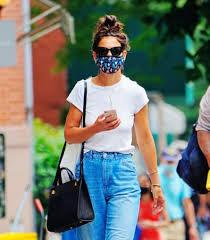mask: (97, 53, 129, 78)
sunglasses: (94, 42, 128, 58)
